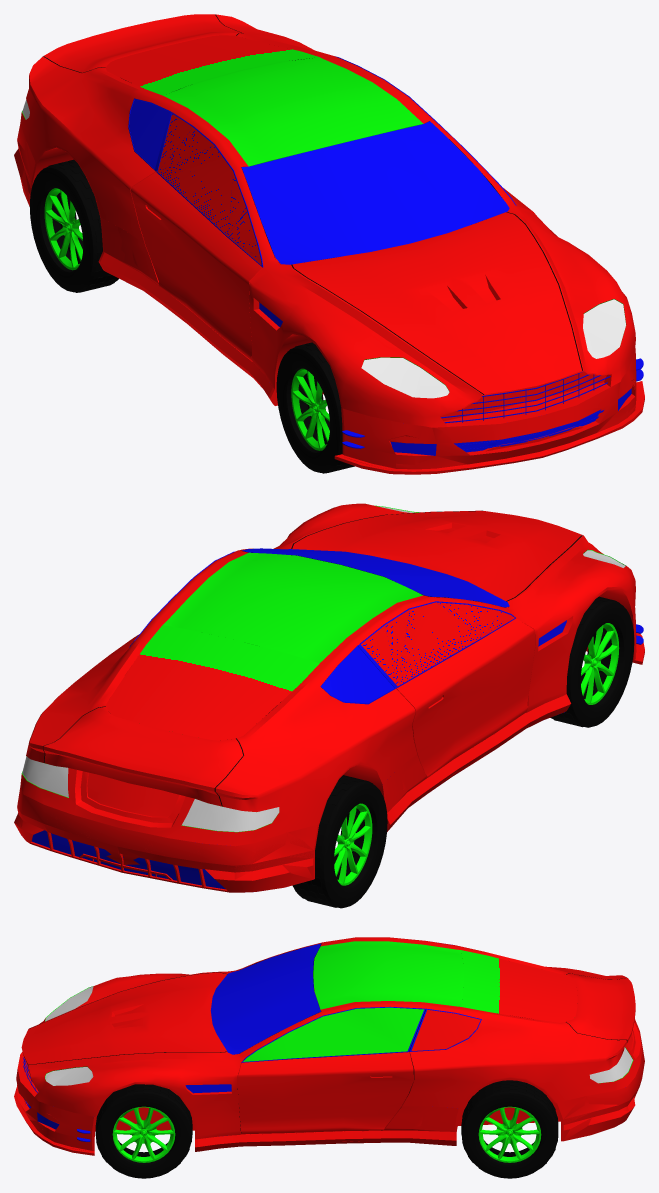
The model's file is coupe-gt-lod0.glb.
The picture shows the model from 3 angles, top to bottom: view 1: azimuth 30°, elevation 25°; view 2: azimuth 150°, elevation 25°; view 3: azimuth 270°, elevation 25°; orthographic projection. The views are drawn at different scales.
Visible parts, largest first — view 1: body, glass_a, door_r_front, bumper_front_b, Wheel.002, Wheel.003, glass_c, glass_door_r, bumper_front_c, skirt_c, bumper_front_a, skirt_b (+1 smaller); view 2: body, glass_c, door_r_front, Wheel.002, Wheel.003, glass_door_r, bumper_rear_b, bumper_rear_a, glass_a, skirt_c, bumper_rear_c, skirt_b; view 3: body, door_l_front, glass_a, Wheel.001, Wheel, glass_c, glass_door_l, skirt_c, bumper_front_b, bumper_rear_b, bumper_rear_a, bumper_front_c (+4 smaller).
Part boxes in pixels (x1,y1,x2,y2): body: (20, 14, 635, 427); glass_a: (241, 121, 509, 264); door_r_front: (130, 112, 263, 360); bumper_front_b: (338, 348, 640, 470); Wheel.002: (29, 159, 118, 292); Wheel.003: (276, 342, 354, 473); glass_c: (105, 35, 319, 95); glass_door_r: (157, 113, 261, 264); bumper_front_c: (334, 358, 644, 474); skirt_c: (98, 231, 274, 405); bumper_front_a: (363, 352, 635, 469); skirt_b: (117, 227, 274, 405); body: (20, 503, 635, 846); glass_c: (105, 625, 319, 740); door_r_front: (359, 601, 535, 777); Wheel.002: (292, 775, 387, 908); Wheel.003: (550, 596, 634, 727); glass_door_r: (361, 602, 514, 686); bumper_rear_b: (14, 805, 318, 892); bumper_rear_a: (17, 787, 318, 874); glass_a: (241, 548, 509, 607); skirt_c: (385, 694, 571, 831); bumper_rear_c: (14, 814, 318, 892); skirt_b: (393, 695, 564, 800); body: (17, 937, 642, 1140); door_l_front: (237, 1006, 425, 1134); glass_a: (210, 943, 321, 1054); Wheel.001: (461, 1080, 558, 1178); Wheel: (95, 1084, 192, 1178); glass_c: (461, 950, 577, 1022); glass_door_l: (243, 1007, 423, 1061); skirt_c: (195, 1106, 456, 1151); bumper_front_b: (16, 1069, 94, 1152); bumper_rear_b: (556, 1080, 641, 1141); bumper_rear_a: (555, 1034, 644, 1129); bumper_front_c: (14, 1074, 96, 1155).
Bounding box in the file's own units: 2.15 × 1.45 × 5.16.
Materials: 7 (4 with a texture image).
